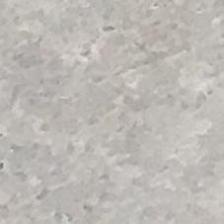Non_Crack: (15, 32, 224, 209)
